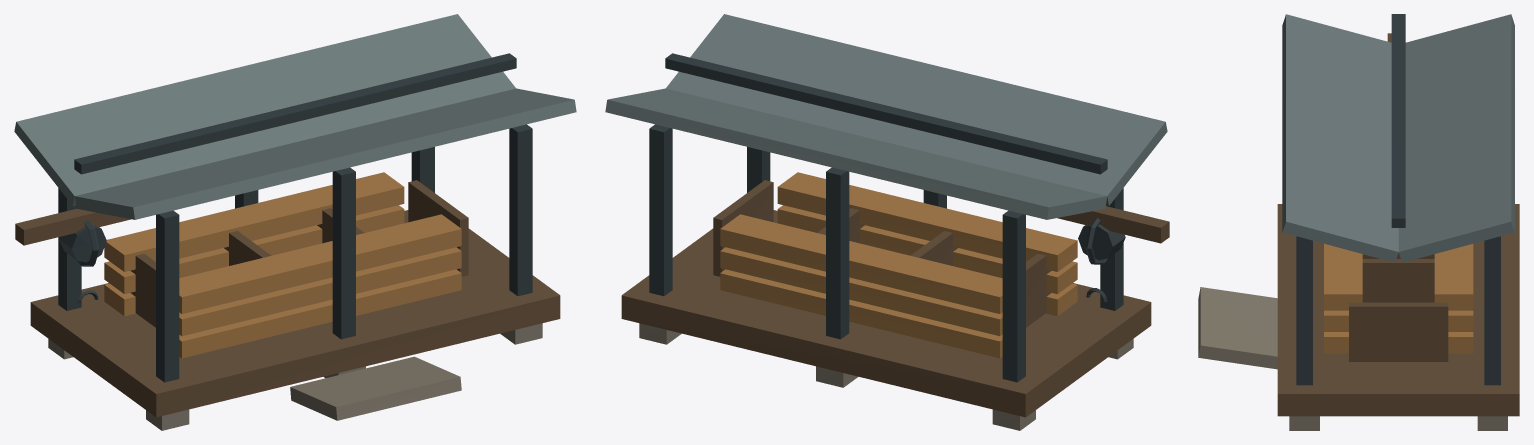
The model's file is Lumber-Yard.glb.
The picture shows the model from 3 angles, left to right: view 1: azimuth 30°, elevation 25°; view 2: azimuth 150°, elevation 25°; view 3: azimuth 270°, elevation 25°; orthographic projection. The views are drawn at different scales.
Visible parts, largest first — view 1: wind-pump-static-lumber-yard-galvanized-roof, wind-pump-static-lumber-yard-frame-timber, wind-pump-static-lumber-yard-stacked-lumber, wind-pump-static-lumber-yard-dark-iron, wind-pump-static-lumber-yard-stone-feet; view 2: wind-pump-static-lumber-yard-galvanized-roof, wind-pump-static-lumber-yard-frame-timber, wind-pump-static-lumber-yard-stacked-lumber, wind-pump-static-lumber-yard-dark-iron, wind-pump-static-lumber-yard-stone-feet; view 3: wind-pump-static-lumber-yard-galvanized-roof, wind-pump-static-lumber-yard-frame-timber, wind-pump-static-lumber-yard-dark-iron, wind-pump-static-lumber-yard-stacked-lumber, wind-pump-static-lumber-yard-stone-feet.
Boxes of the visible parts, left/top/right/bottom form: wind-pump-static-lumber-yard-galvanized-roof: left=14, top=14, right=576, bottom=219; wind-pump-static-lumber-yard-frame-timber: left=15, top=180, right=560, bottom=417; wind-pump-static-lumber-yard-stacked-lumber: left=104, top=172, right=461, bottom=358; wind-pump-static-lumber-yard-dark-iron: left=58, top=53, right=532, bottom=382; wind-pump-static-lumber-yard-stone-feet: left=48, top=323, right=542, bottom=430; wind-pump-static-lumber-yard-galvanized-roof: left=605, top=14, right=1167, bottom=219; wind-pump-static-lumber-yard-frame-timber: left=621, top=180, right=1169, bottom=417; wind-pump-static-lumber-yard-stacked-lumber: left=720, top=172, right=1077, bottom=358; wind-pump-static-lumber-yard-dark-iron: left=649, top=53, right=1125, bottom=382; wind-pump-static-lumber-yard-stone-feet: left=639, top=323, right=1133, bottom=430; wind-pump-static-lumber-yard-galvanized-roof: left=1282, top=14, right=1514, bottom=262; wind-pump-static-lumber-yard-frame-timber: left=1277, top=33, right=1519, bottom=416; wind-pump-static-lumber-yard-dark-iron: left=1296, top=14, right=1500, bottom=385; wind-pump-static-lumber-yard-stacked-lumber: left=1324, top=243, right=1473, bottom=353; wind-pump-static-lumber-yard-stone-feet: left=1198, top=287, right=1507, bottom=430.
Size of the model in its own units: 4 by 1.8 by 2.32.
